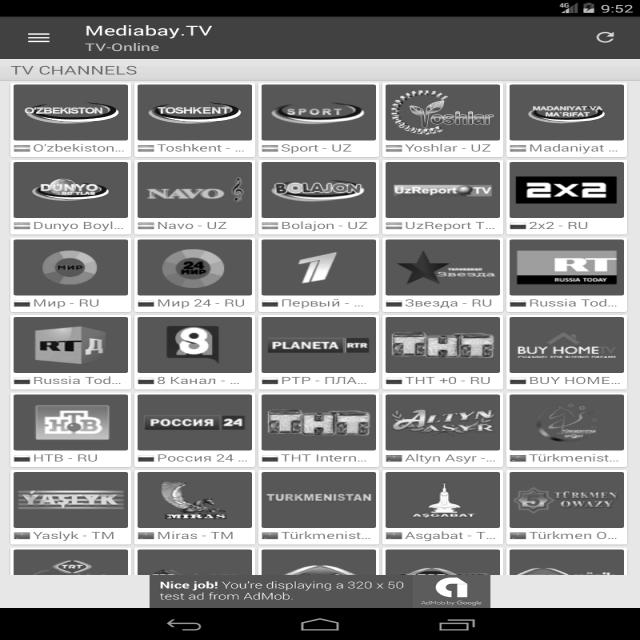ImageButton: (590, 28, 622, 44), (26, 30, 55, 45)
ImageView: (265, 85, 378, 142), (510, 470, 620, 528), (512, 84, 625, 140), (263, 239, 375, 295), (138, 317, 254, 371), (15, 85, 126, 141), (266, 396, 373, 450), (416, 574, 490, 608), (135, 298, 159, 309), (136, 220, 158, 230), (137, 375, 156, 384)
TextView: (159, 580, 407, 602), (81, 20, 218, 38), (8, 61, 145, 79), (81, 41, 164, 54), (280, 142, 354, 155), (159, 530, 234, 542), (408, 453, 482, 465), (289, 300, 341, 310)
